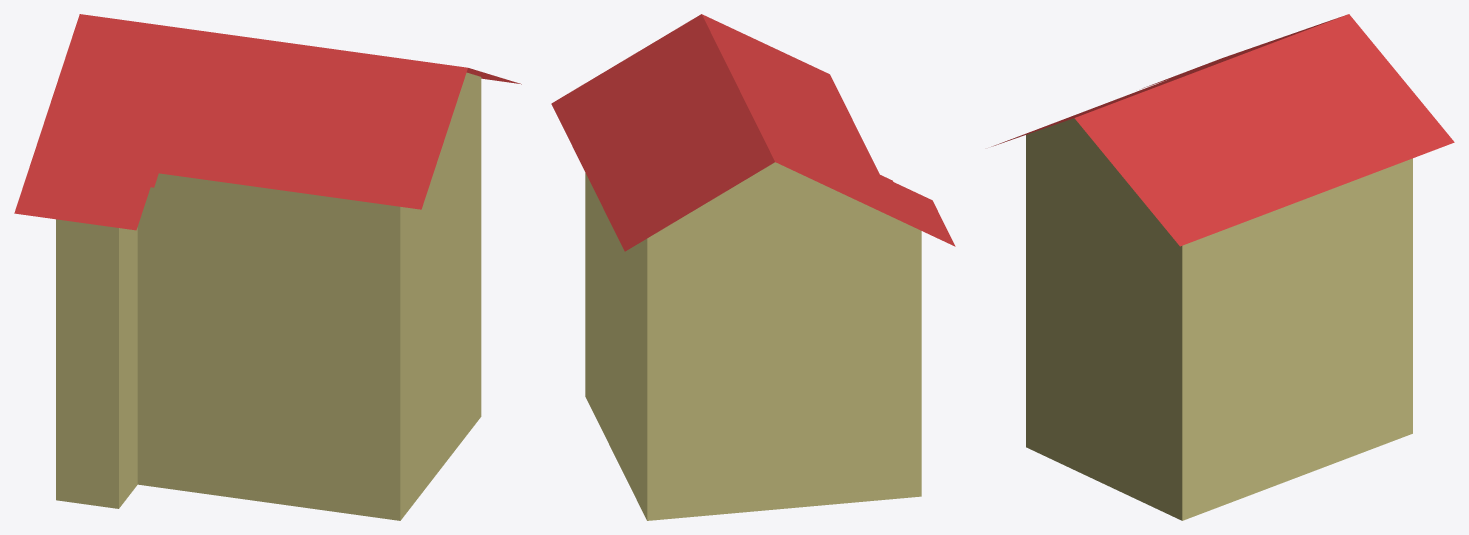
The picture shows the model from 3 angles, left to right: view 1: azimuth 30°, elevation 25°; view 2: azimuth 150°, elevation 25°; view 3: azimuth 270°, elevation 25°; orthographic projection. The views are drawn at different scales.
Visible parts, largest first — view 1: group_5, group_3, group_4; view 2: group_5, group_3; view 3: group_5, group_3.
Part boxes in pixels (<box>): group_5: <box>56,72,481,520</box>; group_3: <box>14,14,521,230</box>; group_4: <box>16,177,156,229</box>; group_5: <box>585,162,921,520</box>; group_3: <box>551,14,955,251</box>; group_5: <box>1026,118,1412,520</box>; group_3: <box>991,14,1454,246</box>.
Size of the model in its own units: 17.01 by 15.83 by 13.76.
